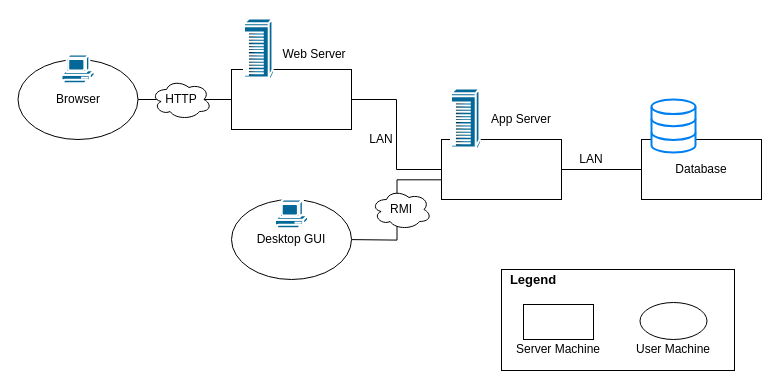
The diagram is 779 pixels wide and 388 high, and some of its shapes have lost their labels. The centre of each missing label's shape, as x and y in pixels:
TornGest: (x=501, y=169)
Web Site: (x=291, y=99)
